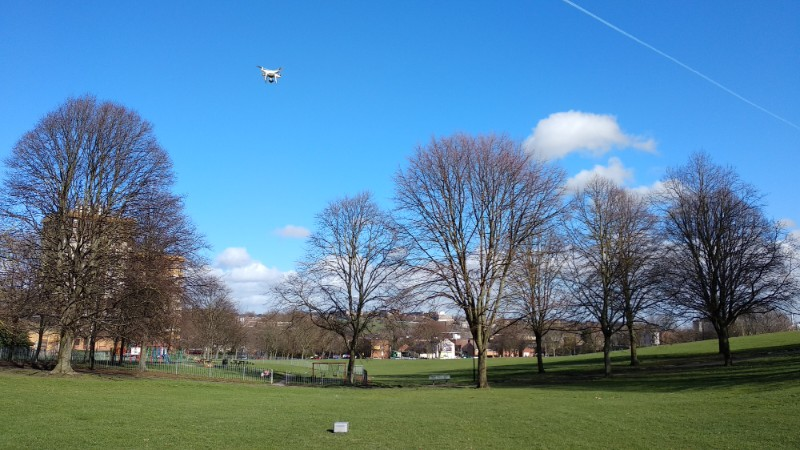drone: (257, 64, 285, 84)
